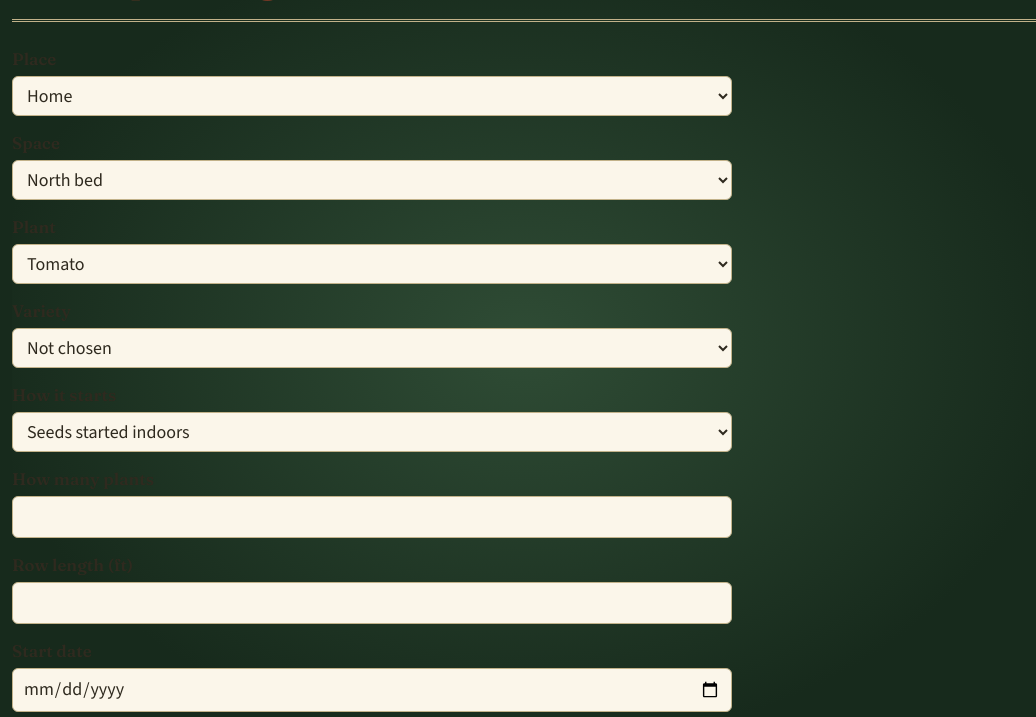
plan a planting › changing the place clears the space at once, so nothing saves under the old place while spaces load
In the date field labelled "Start date": {"x": 372, "y": 690} [12,668,732,712], type "2027-02-01"
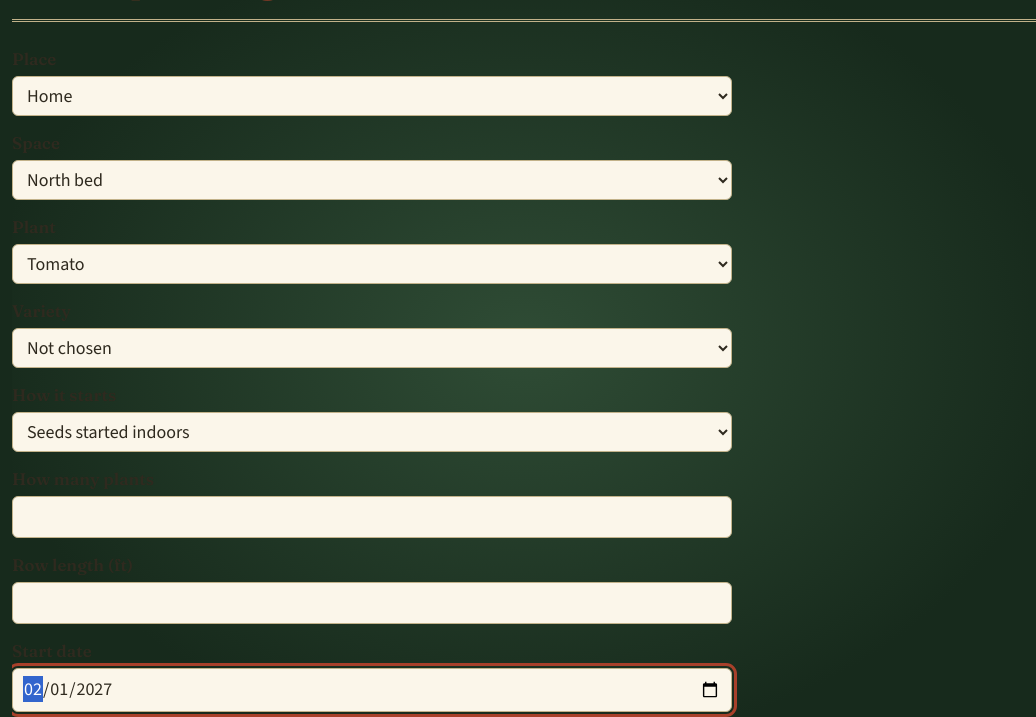
Select "Valley" in the dropdown labelled "Place": {"x": 372, "y": 96} [12,76,732,116]
(page scrolled)
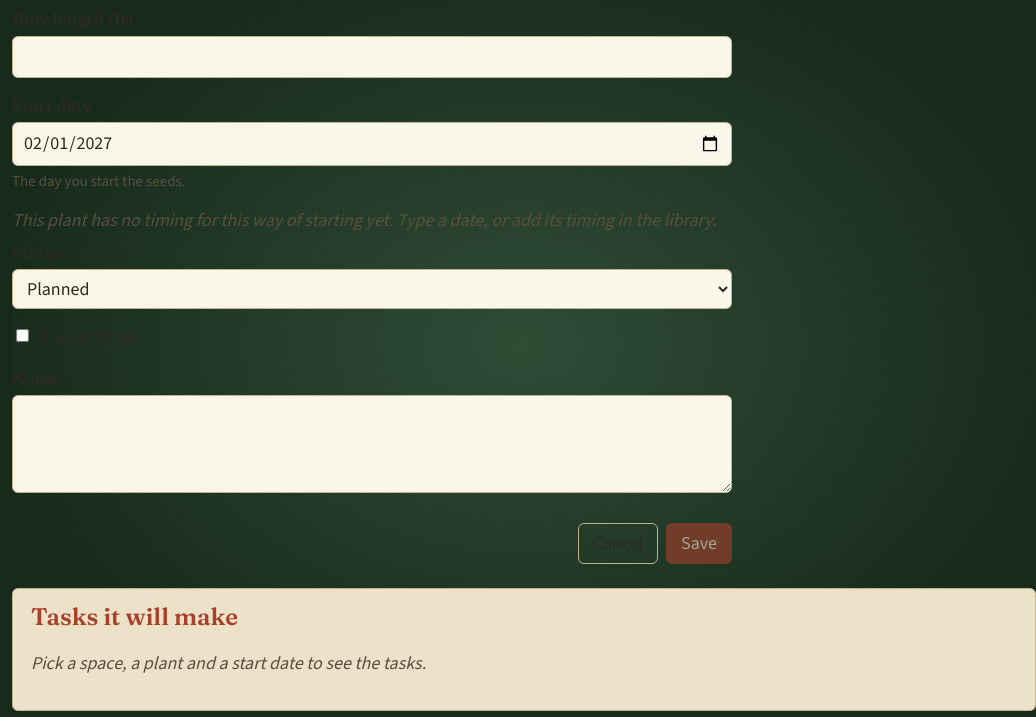
Expected: the button "Save" is disabled, [666,522,732,564]
